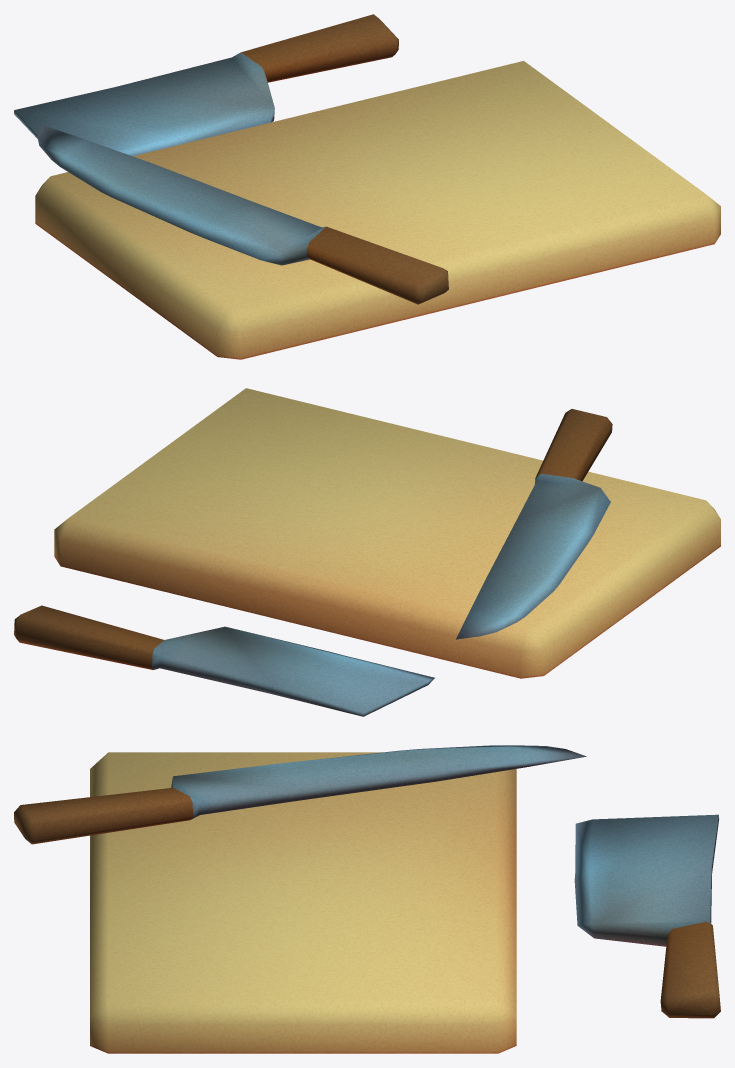
The model's file is CuttingBoard.fbx.
The picture shows the model from 3 angles, top to bottom: view 1: azimuth 30°, elevation 25°; view 2: azimuth 150°, elevation 25°; view 3: azimuth 270°, elevation 25°; orthographic projection. The views are drawn at different scales.
Visible parts, largest first — view 1: CuttingBoard; view 2: CuttingBoard; view 3: CuttingBoard.
Boxes of the visible parts, <box> form: CuttingBoard: <box>14,14,720,359</box>; CuttingBoard: <box>14,388,720,716</box>; CuttingBoard: <box>14,745,720,1053</box>.
Size of the model in its own units: 77.54 by 10.15 by 88.19.
